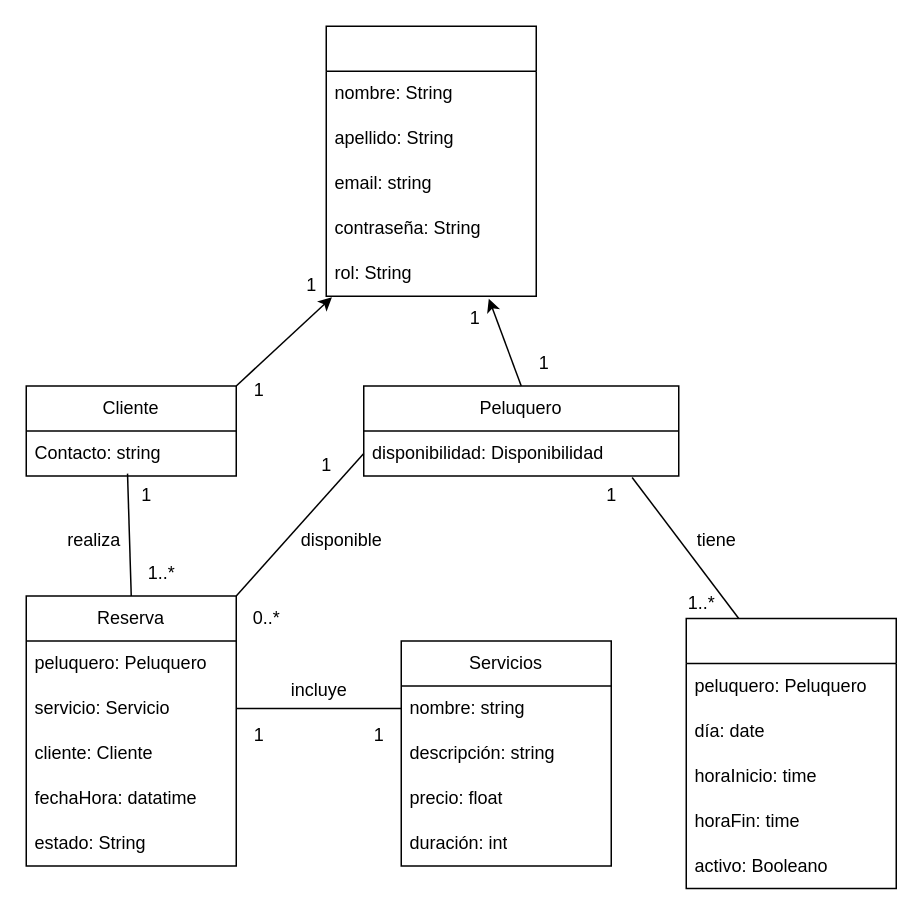
This 923x915 diagram has some shape labels left out. Here are the shapes that lost their labels. From the top down, the box of each, then its label:
(325, 25, 536, 296): Usuario
(685, 617, 896, 888): Disponibilidad
